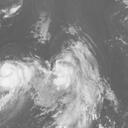cyclone: (38, 25, 98, 94)
